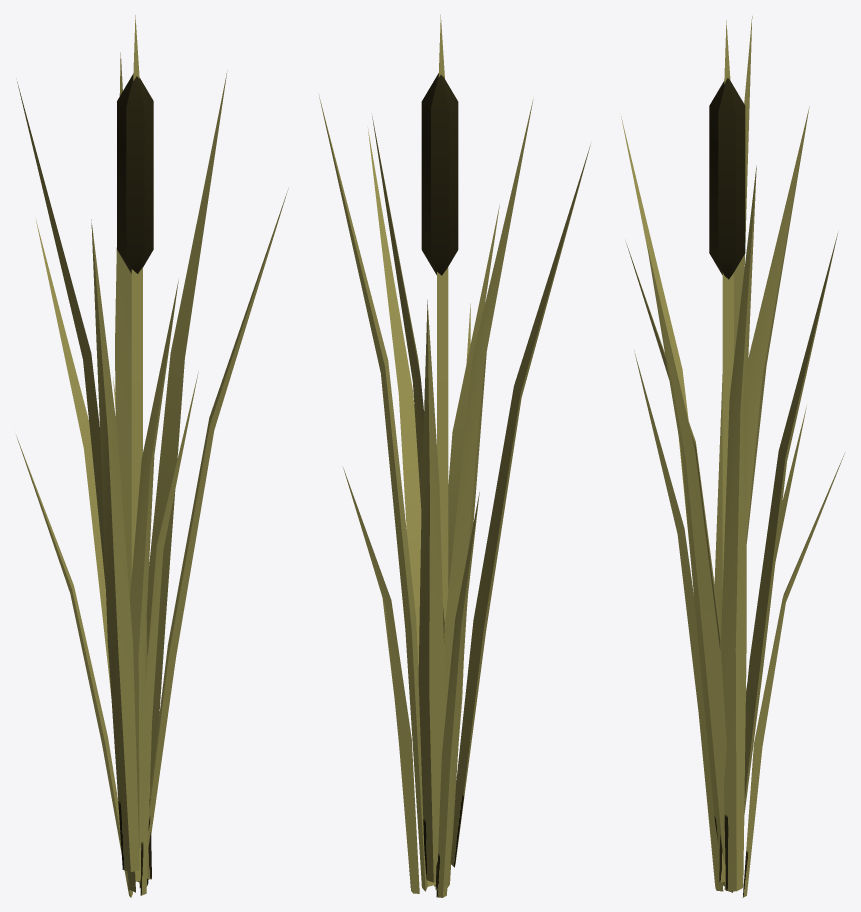
Rendered from ReedmaceB.fbx.
The picture shows the model from 3 angles, left to right: view 1: azimuth 30°, elevation 25°; view 2: azimuth 150°, elevation 25°; view 3: azimuth 270°, elevation 25°; orthographic projection.
Parts seen in each view (by area): view 1: ReedmaceB; view 2: ReedmaceB; view 3: ReedmaceB.
Part boxes in pixels (x1=…): ReedmaceB: x1=16, y1=15, x2=288, y2=897; ReedmaceB: x1=319, y1=14, x2=590, y2=897; ReedmaceB: x1=621, y1=16, x2=844, y2=897.
Size of the model in its own units: 54.11 by 207 by 48.73.
